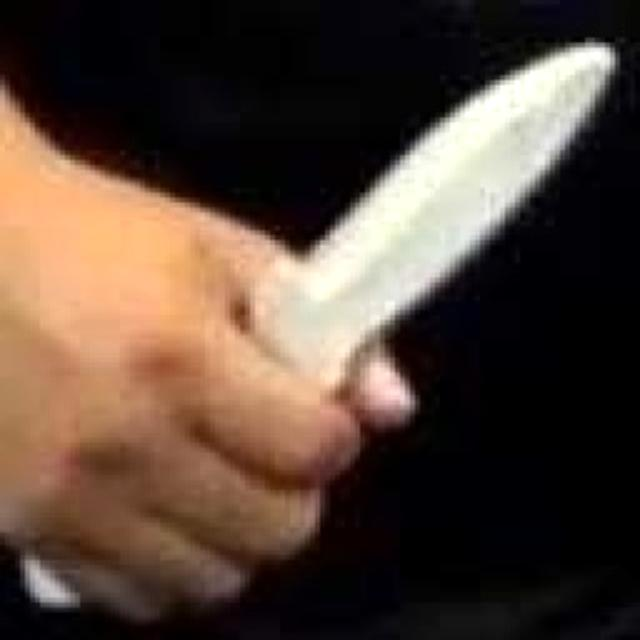pocket-knife: (25, 44, 620, 602)
